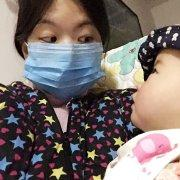,mask: (17, 36, 108, 103), (87, 129, 180, 179)
